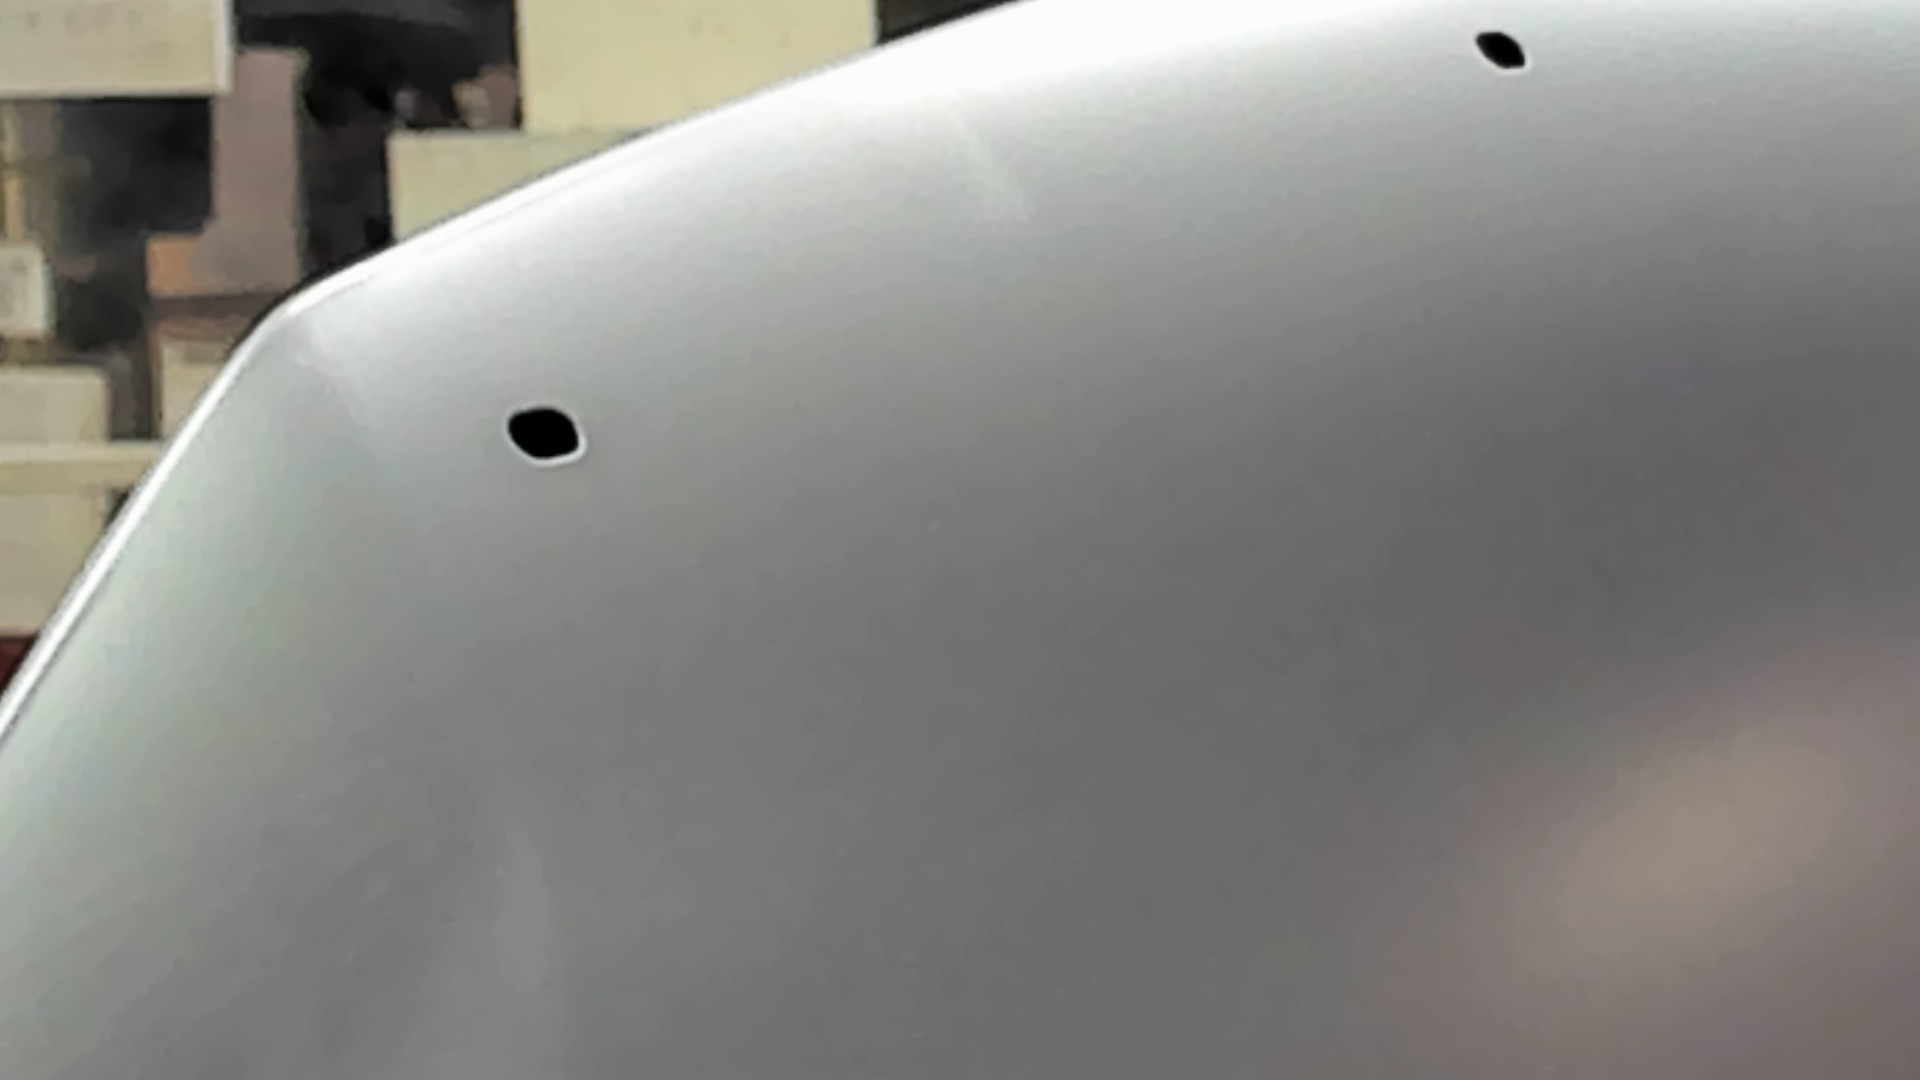amorfo: (504, 397, 587, 468), (1470, 26, 1532, 79)
